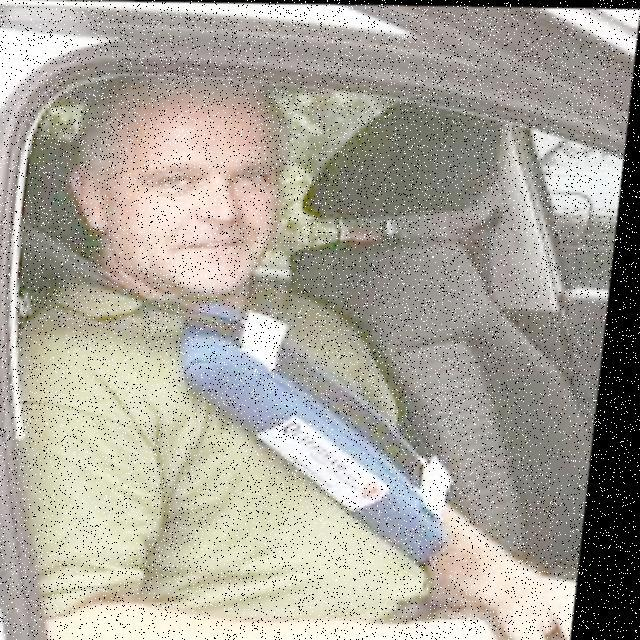seatbelt: (8, 309, 464, 610)
